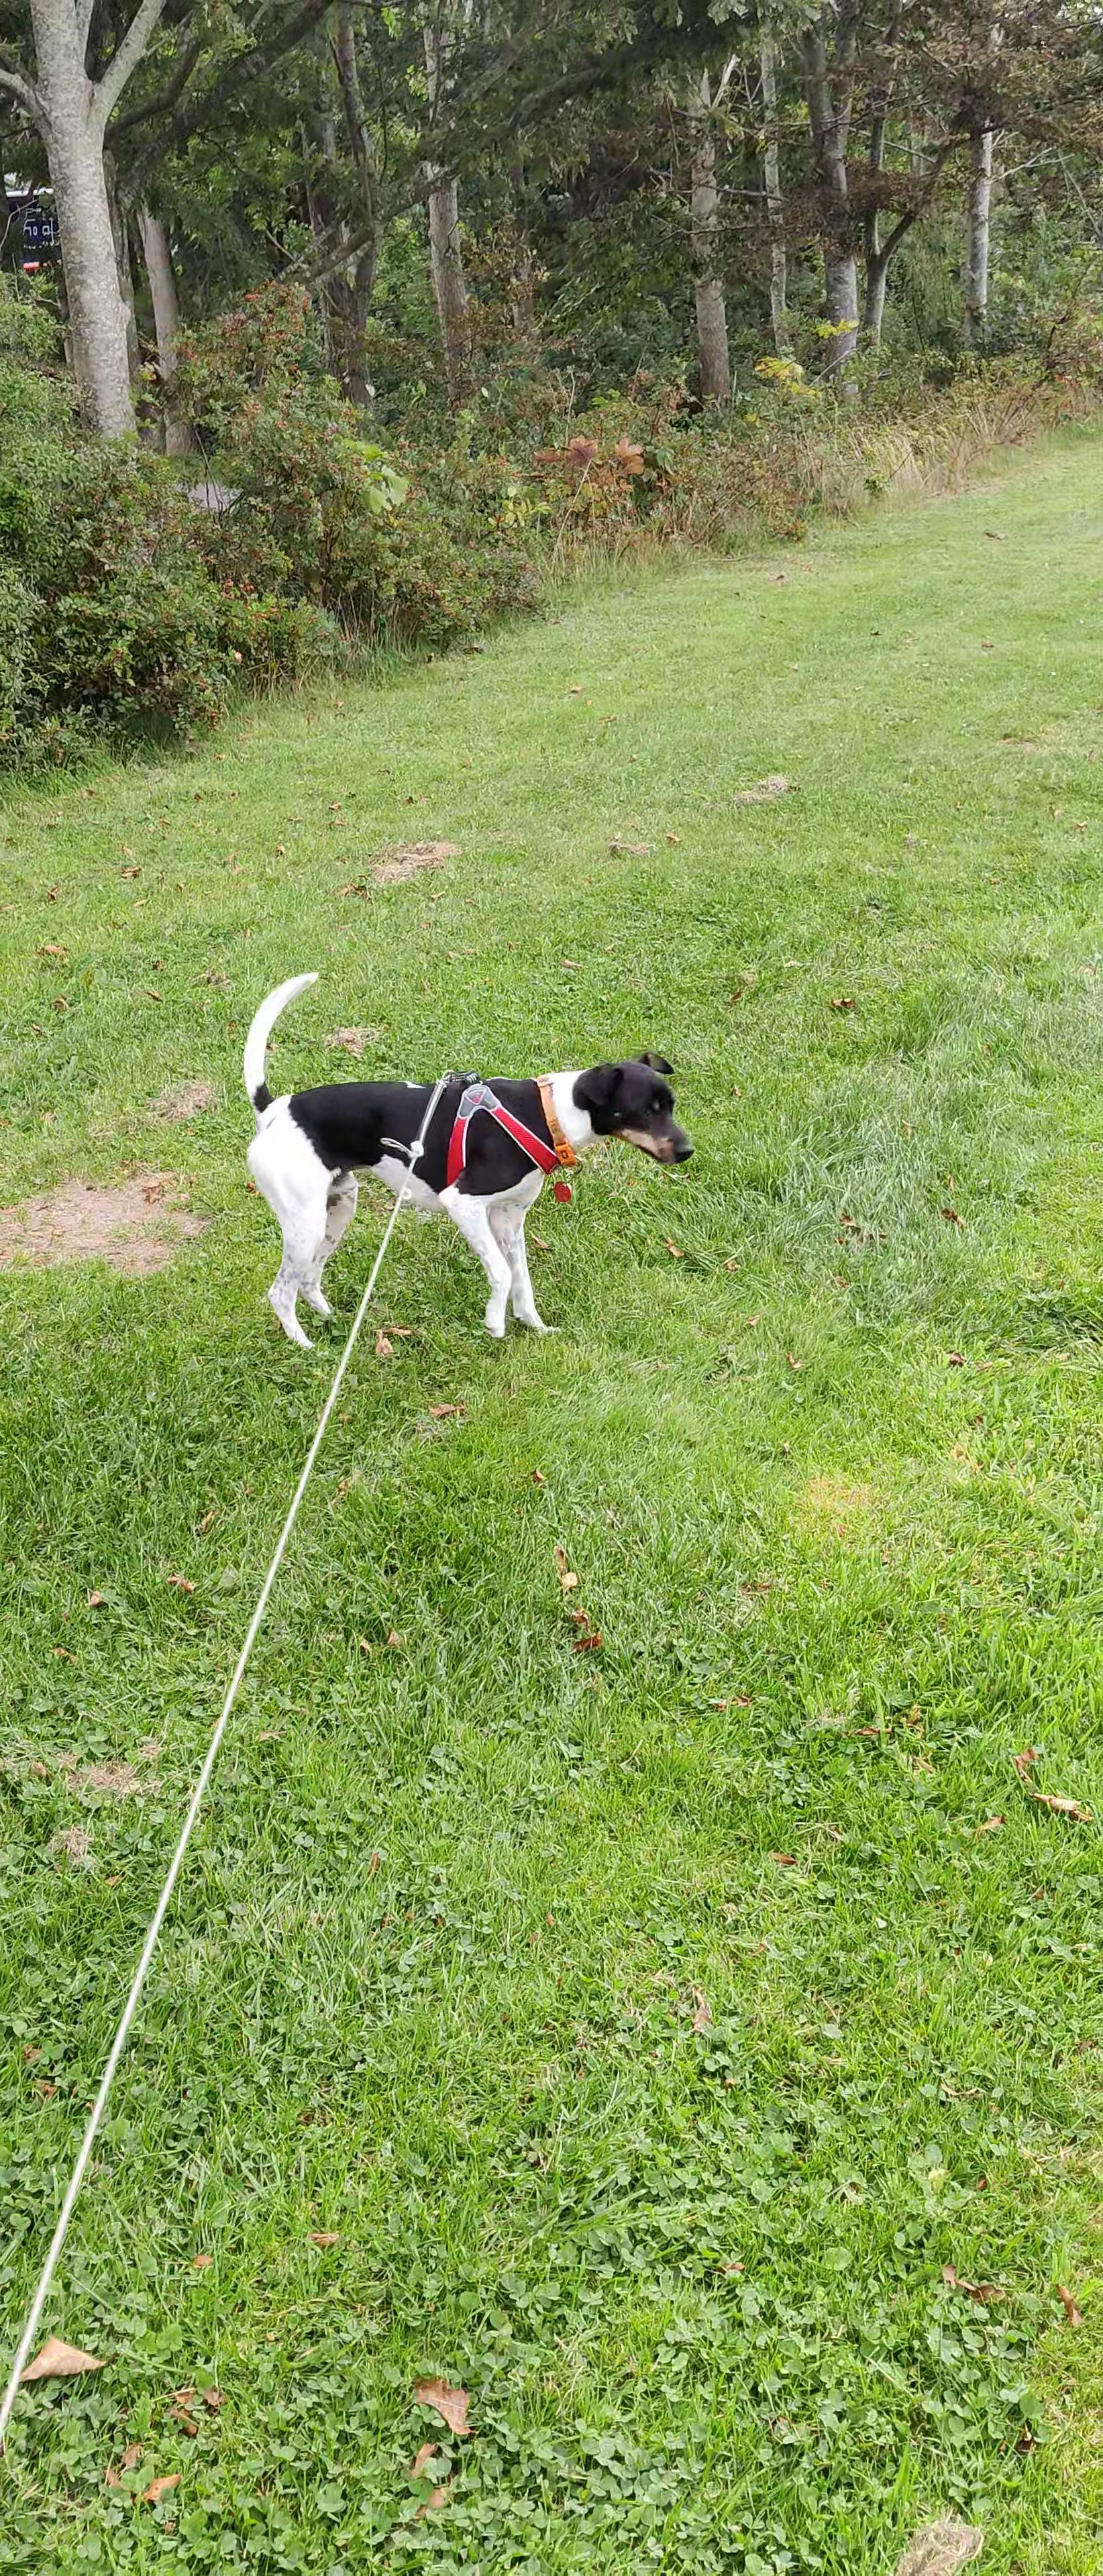Dog: (212, 954, 722, 1364)
